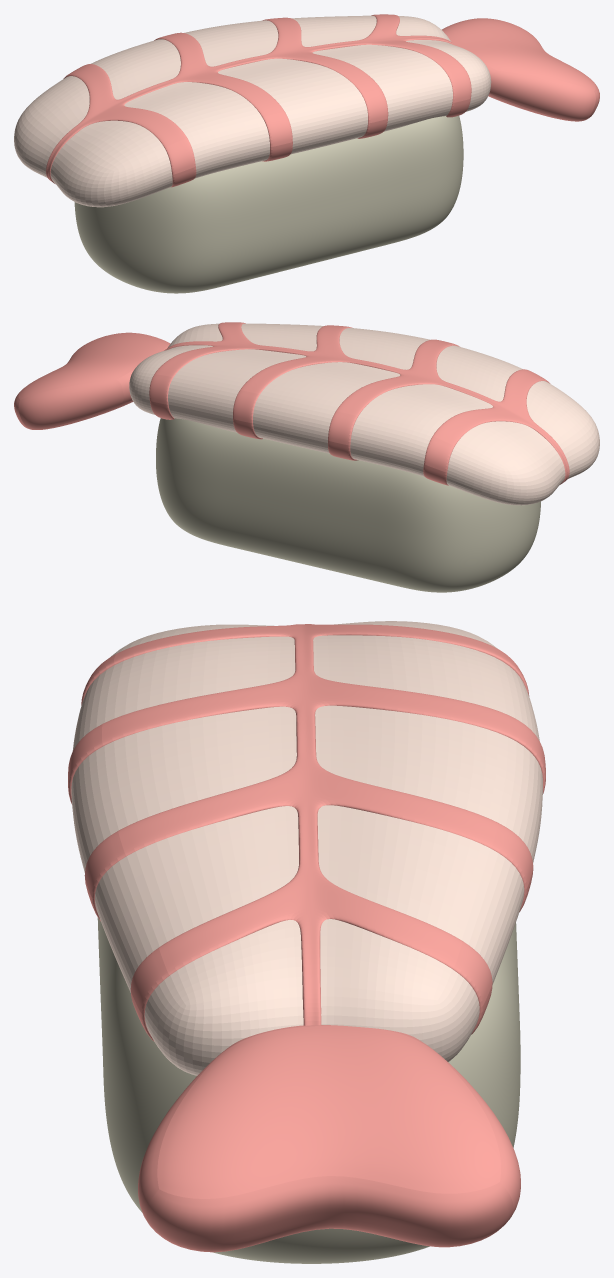
The model's file is Shrimp Sush.fbx.
3 renders of one model, top to bottom at view 1: azimuth 30°, elevation 25°; view 2: azimuth 150°, elevation 25°; view 3: azimuth 270°, elevation 25°, orthographic. The views are drawn at different scales.
Parts seen in each view (by area): view 1: Box011, Rice 1.003, Box013, Box008; view 2: Box011, Rice 1.003, Box013, Box008; view 3: Box011, Box008, Box013, Rice 1.003.
Part boxes in pixels (left/top/right/bottom): Box011: left=14, top=15, right=491, bottom=207; Rice 1.003: left=74, top=115, right=463, bottom=293; Box013: left=46, top=14, right=471, bottom=187; Box008: left=442, top=18, right=599, bottom=121; Box011: left=129, top=323, right=599, bottom=505; Rice 1.003: left=156, top=418, right=540, bottom=592; Box013: left=149, top=322, right=569, bottom=485; Box008: left=14, top=332, right=170, bottom=429; Box011: left=71, top=621, right=542, bottom=1075; Box008: left=138, top=1025, right=520, bottom=1252; Box013: left=68, top=624, right=545, bottom=1041; Rice 1.003: left=97, top=917, right=520, bottom=1263.
Size of the model in its own units: 263 by 92.36 by 105.
